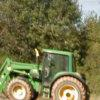Tractor: (3, 37, 90, 100)
